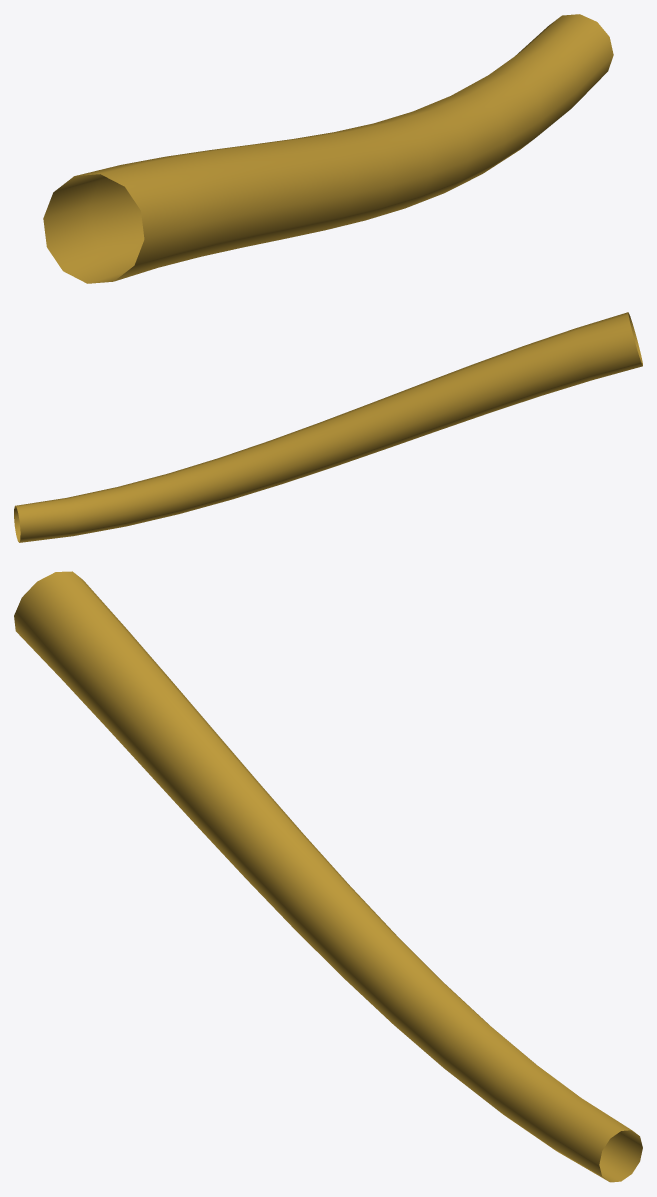
3 views of the same model, one above another, from view 1: azimuth 30°, elevation 25°; view 2: azimuth 150°, elevation 25°; view 3: azimuth 270°, elevation 25° (orthographic). The views are drawn at different scales.
Parts seen in each view (by area): view 1: 左侧臂丛中干前股; view 2: 左侧臂丛中干前股; view 3: 左侧臂丛中干前股.
Boxes of the visible parts, bbox=[...] form: 左侧臂丛中干前股: bbox=[43, 14, 613, 283]; 左侧臂丛中干前股: bbox=[14, 312, 642, 542]; 左侧臂丛中干前股: bbox=[14, 571, 642, 1182].
Bounding box in the file's own units: 0.0412 × 0.0168 × 0.0325.
